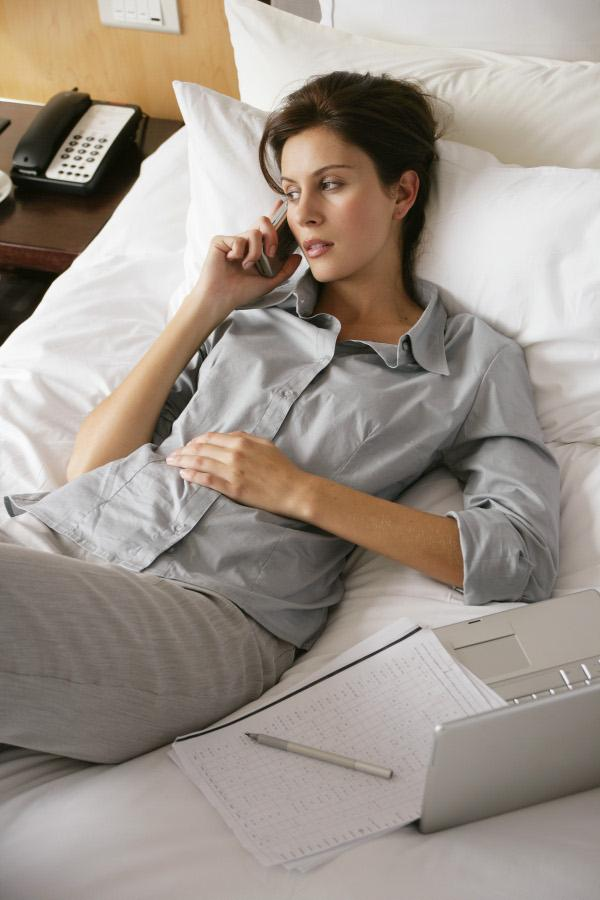person: (3, 70, 562, 773)
